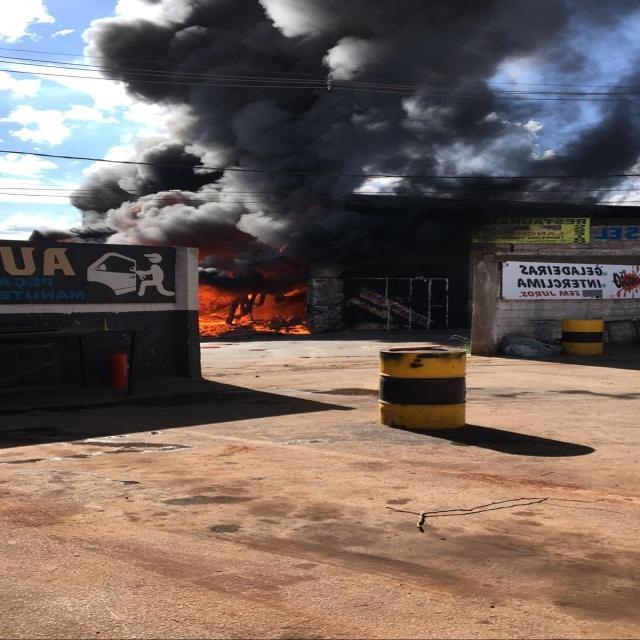smoke: (168, 18, 630, 188)
